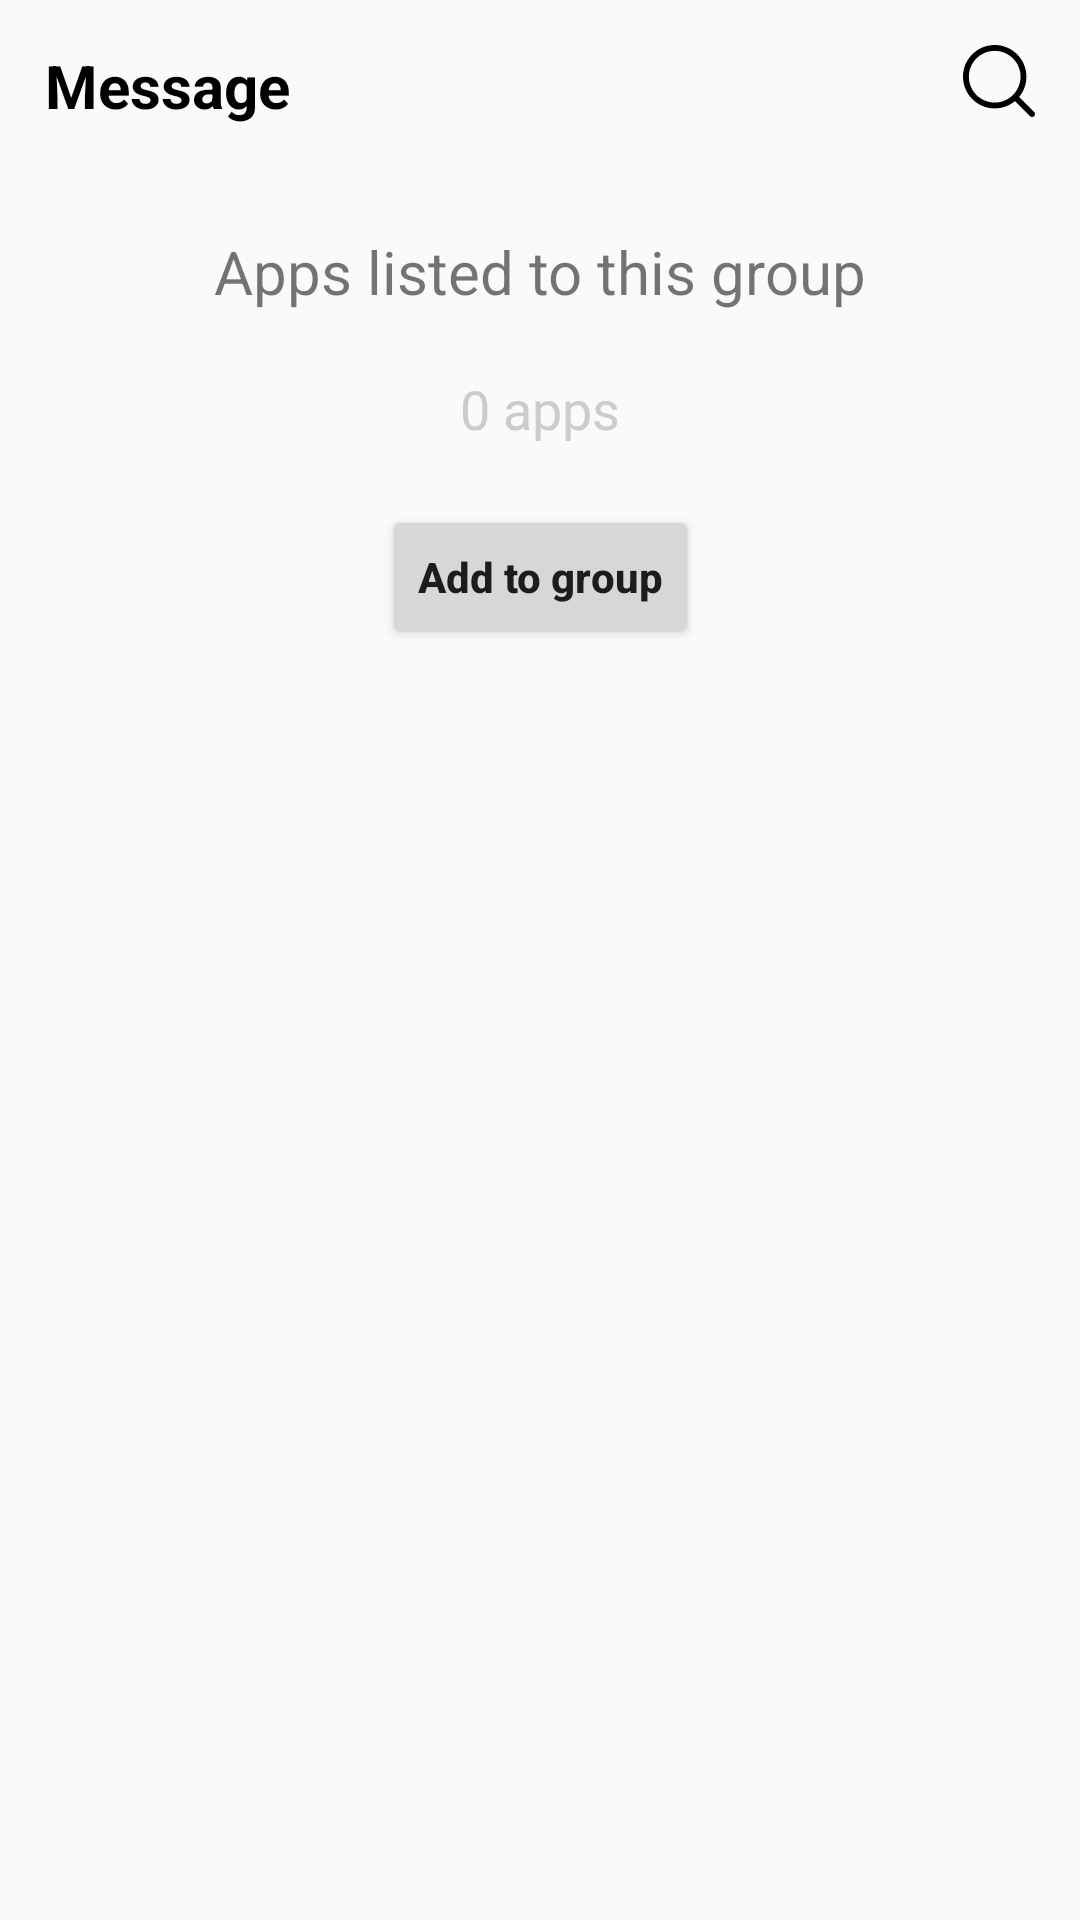

Icons on this 1080px×1920px Android screen, each with the point to tap as (x,y):
search: (999,81)
